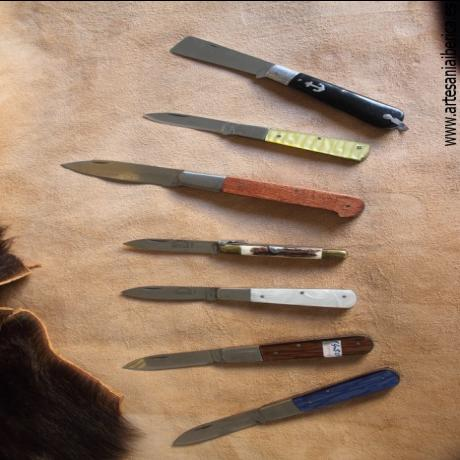weapon: (165, 33, 413, 130), (49, 160, 368, 219), (172, 366, 400, 448), (141, 105, 370, 159), (118, 332, 376, 372), (117, 233, 354, 261), (118, 283, 358, 308)
